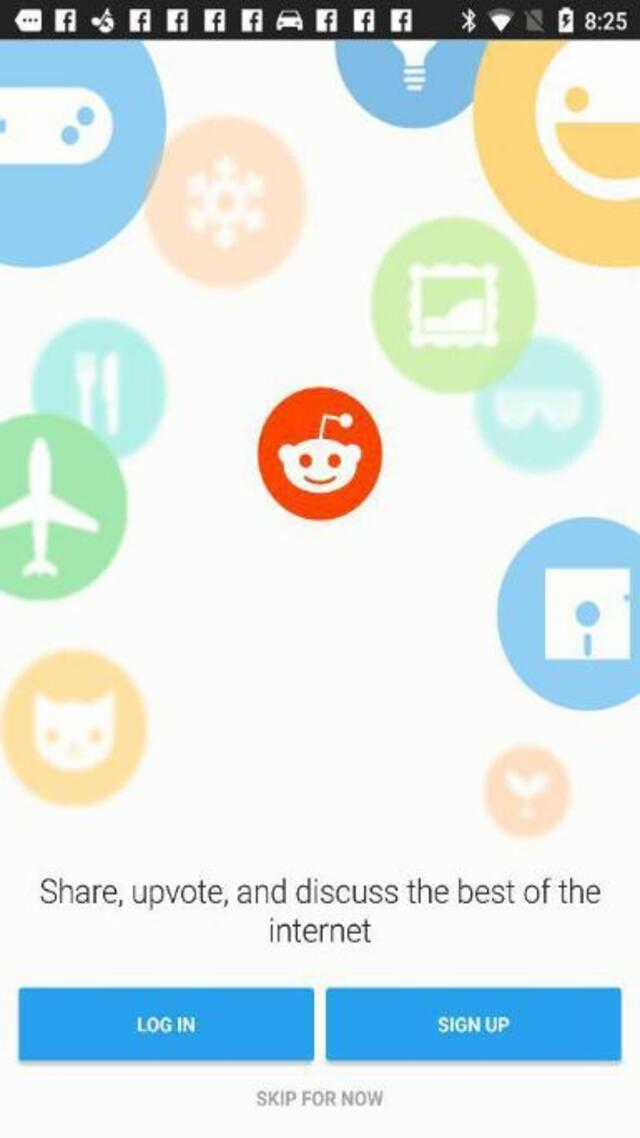Image: (0, 41, 638, 841)
Text: (39, 875, 603, 911), (262, 917, 377, 949), (256, 1088, 382, 1106), (434, 1013, 515, 1036), (132, 1013, 202, 1036), (165, 927, 207, 945)
TextButton: (326, 985, 622, 1060), (18, 985, 314, 1060)
